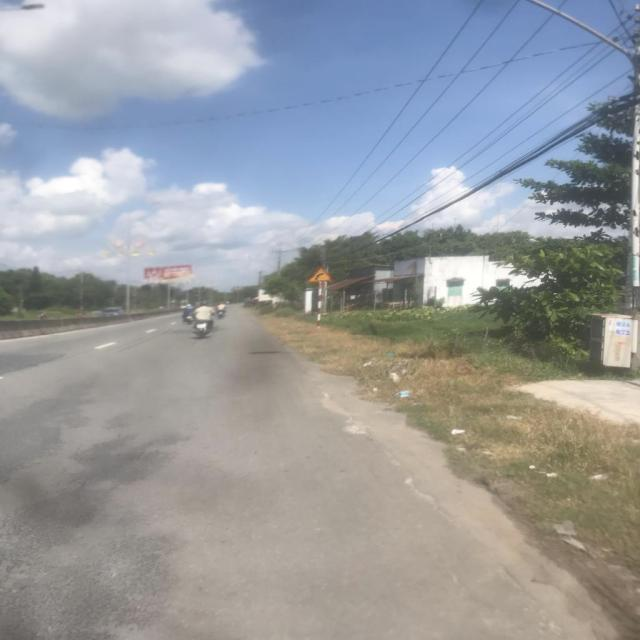201-cho-ngoat-nguy-hiem: (307, 266, 337, 282)
